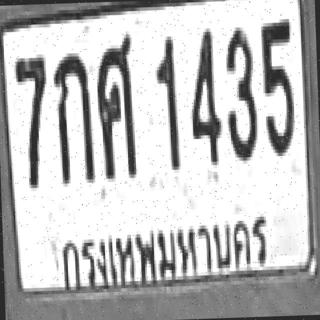A01: (50, 49, 93, 180)
A38: (94, 32, 136, 177)
N01: (154, 33, 179, 170)
N03: (223, 24, 256, 158)
N04: (187, 25, 220, 162)
N05: (258, 17, 294, 155)
N07: (13, 54, 48, 185)
P04: (54, 202, 276, 286)
